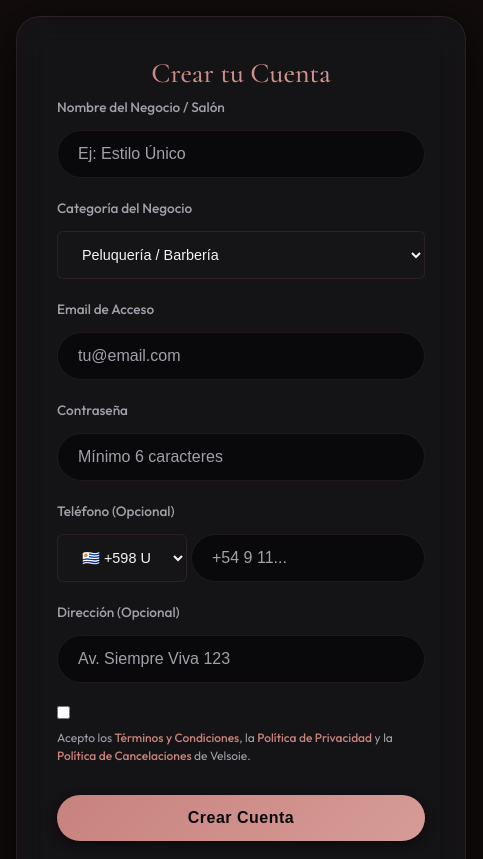
Test: StaffRegister › shows error on failed registration
The image size is (483, 859).
In the field with placeholder "Ej: Estilo Único": (241, 154) [57,130,425,178], type "Mi Salon"
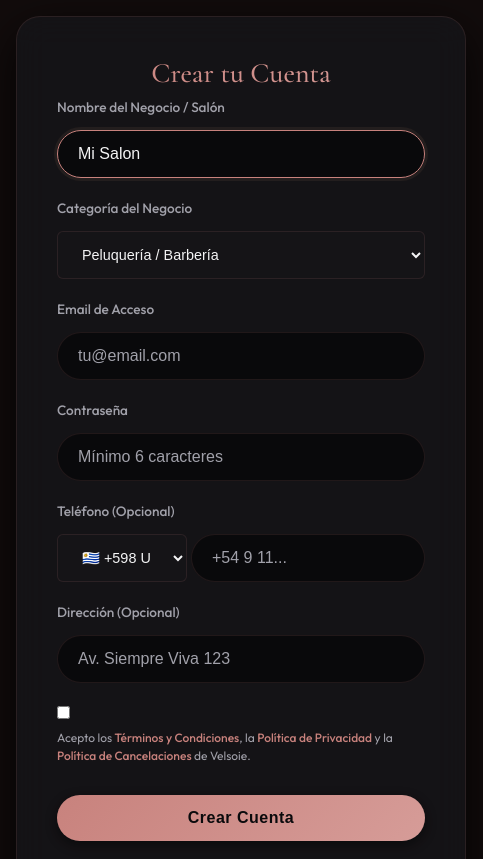
In the field with placeholder "tu@email.com": (241, 356) [57,332,425,380], type "test@test.com"
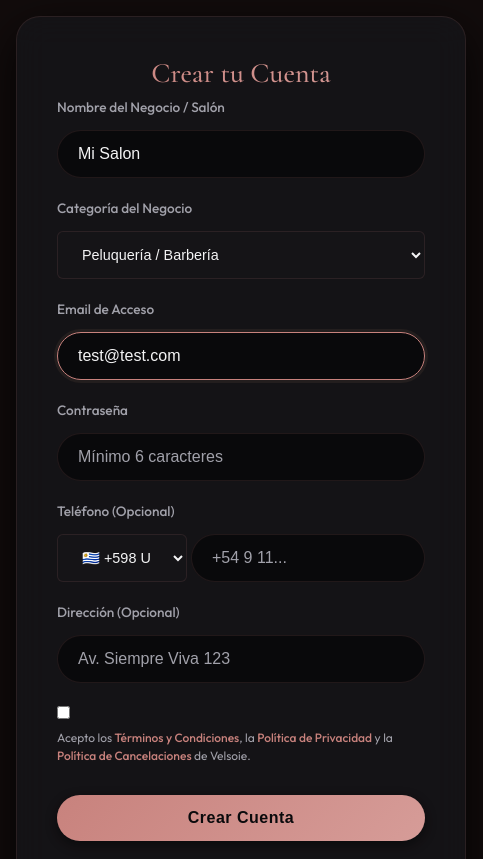
In the password field with placeholder "Mínimo 6 caracteres": (241, 457) [57,433,425,481], type "123456"
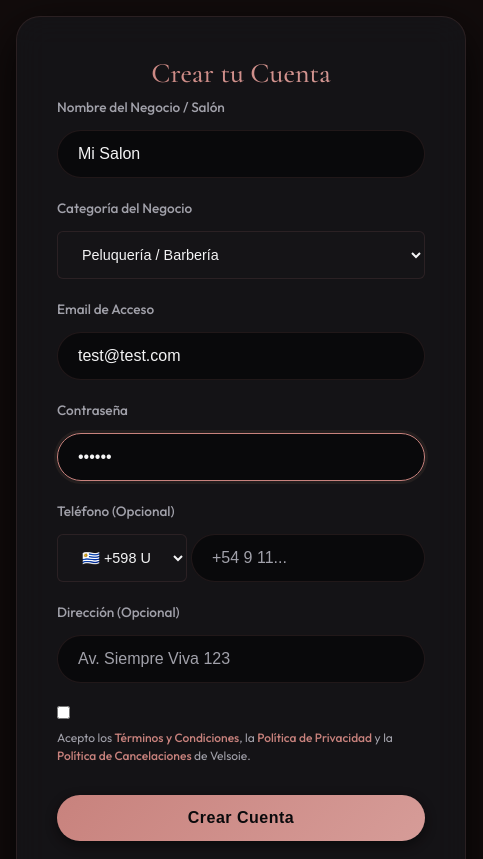
Click the checkbox labelled "Acepto los": (64, 712) [57,706,70,719]
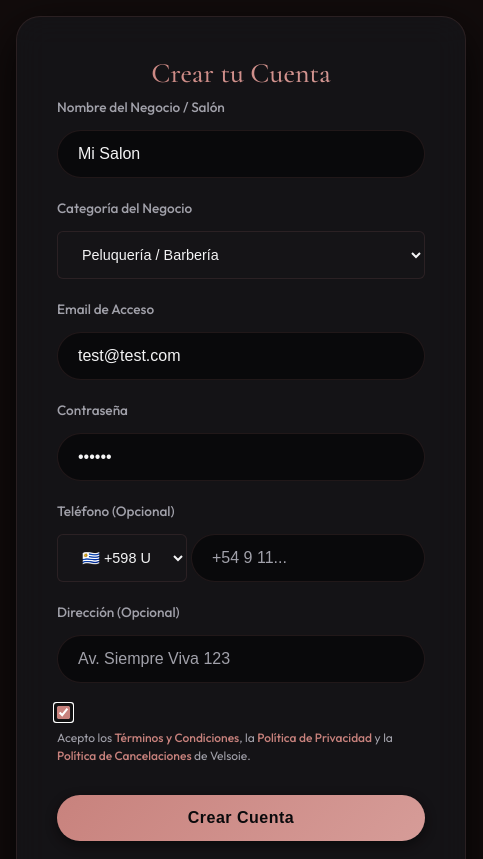
Click the button "Crear Cuenta": (241, 818) [57,795,425,841]
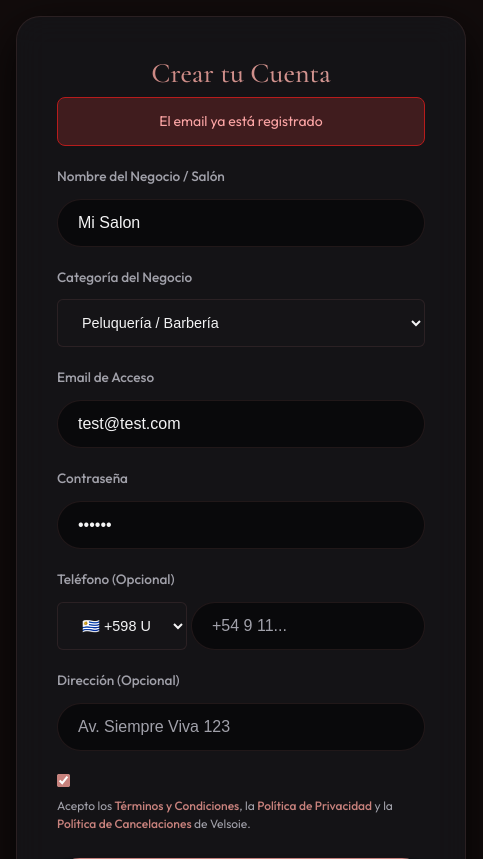
Expected: the text "El email ya está registrado" is shown, [57,97,425,146]
